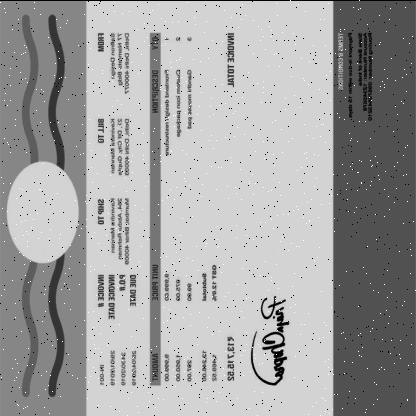Paragraph: (95, 270, 139, 388), (224, 28, 238, 386), (335, 28, 375, 122), (95, 194, 132, 266), (200, 260, 220, 385), (95, 29, 131, 95), (95, 114, 132, 178)
Table: (150, 31, 199, 385)
